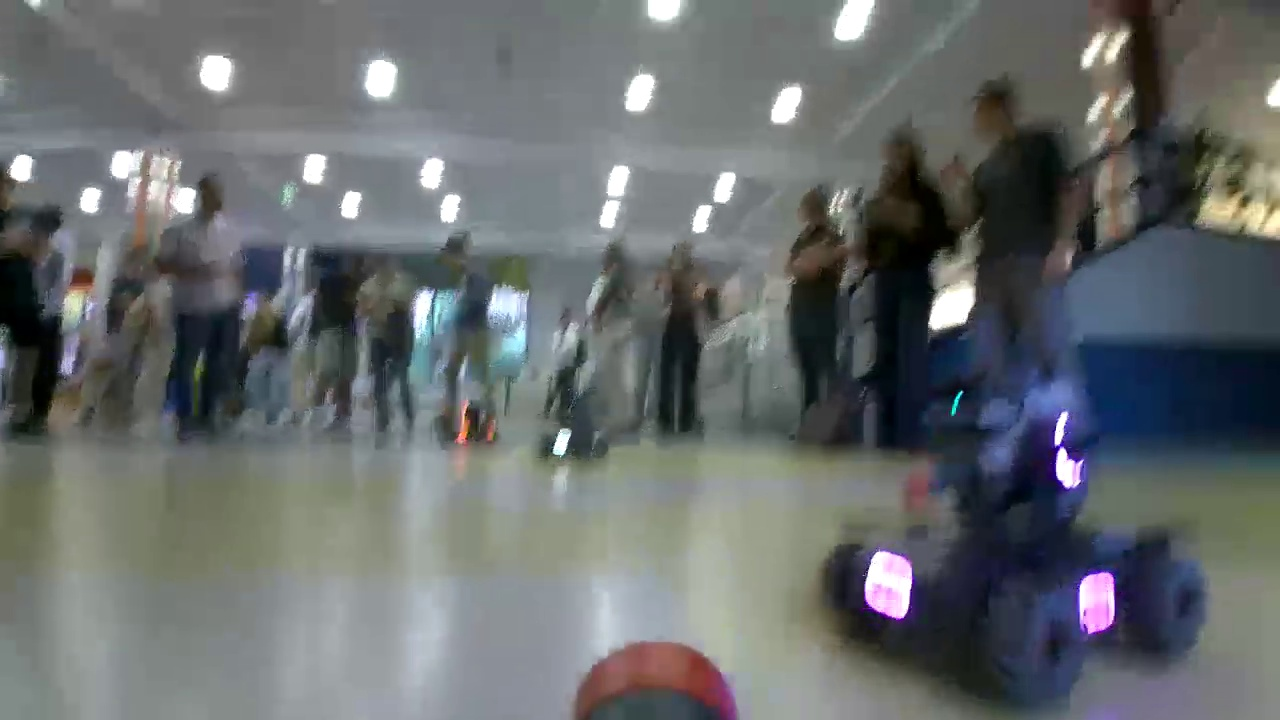robot: (818, 371, 1211, 709), (434, 397, 500, 446), (541, 420, 611, 461)
